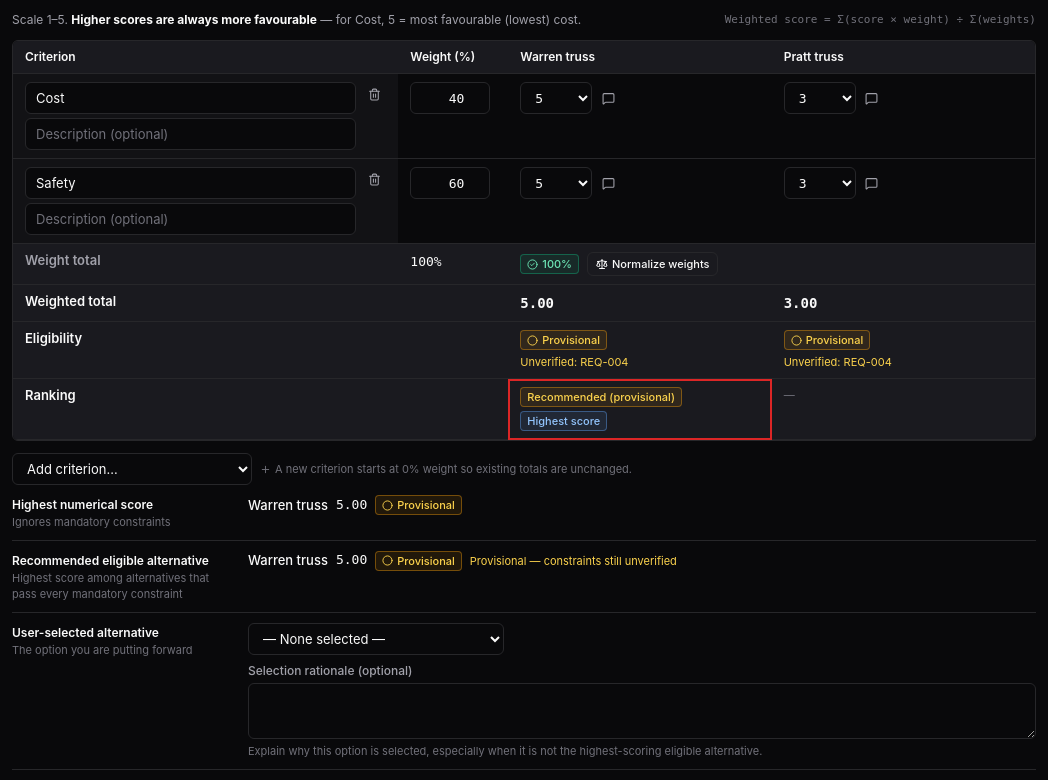
Test: decision matrix UI › updates the weighted total when a score changes
Expected: the cell with test id "total-alt-b" reads "3.00", left=784, top=295, right=817, bottom=311
Step 1. Select "1" in the dropdown named "Score for Pratt truss on Cost" → (820, 98), box left=784, top=82, right=856, bottom=114
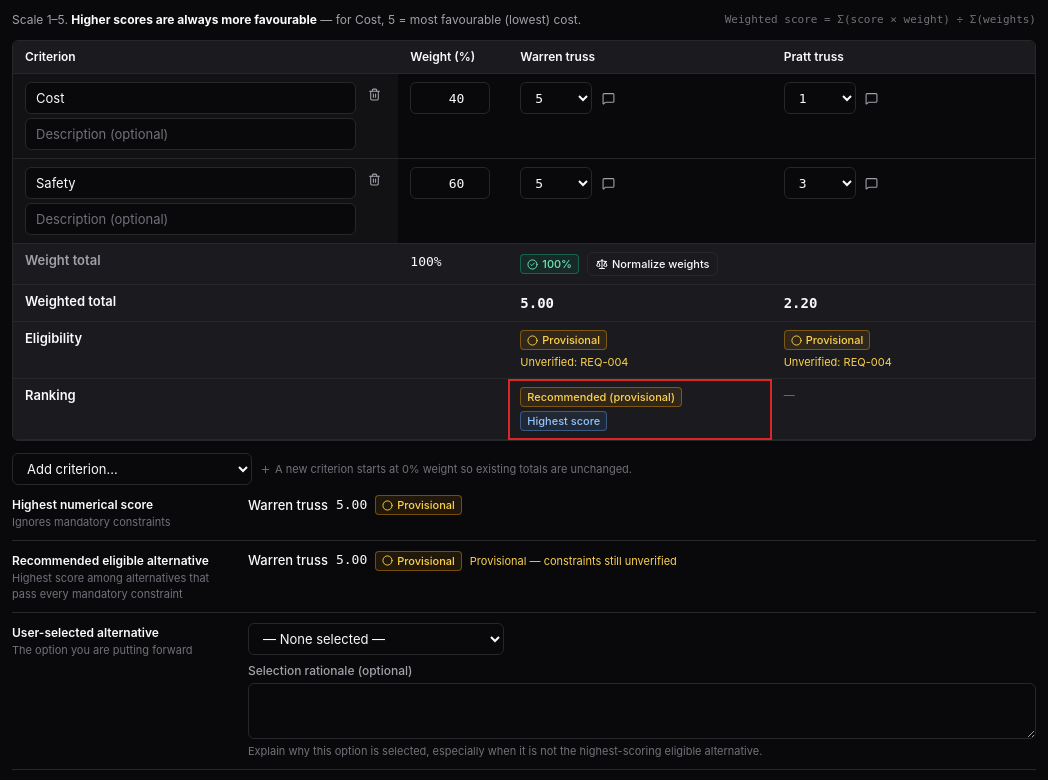
Result: the cell with test id "total-alt-b" reads "2.20" at left=784, top=295, right=817, bottom=311
